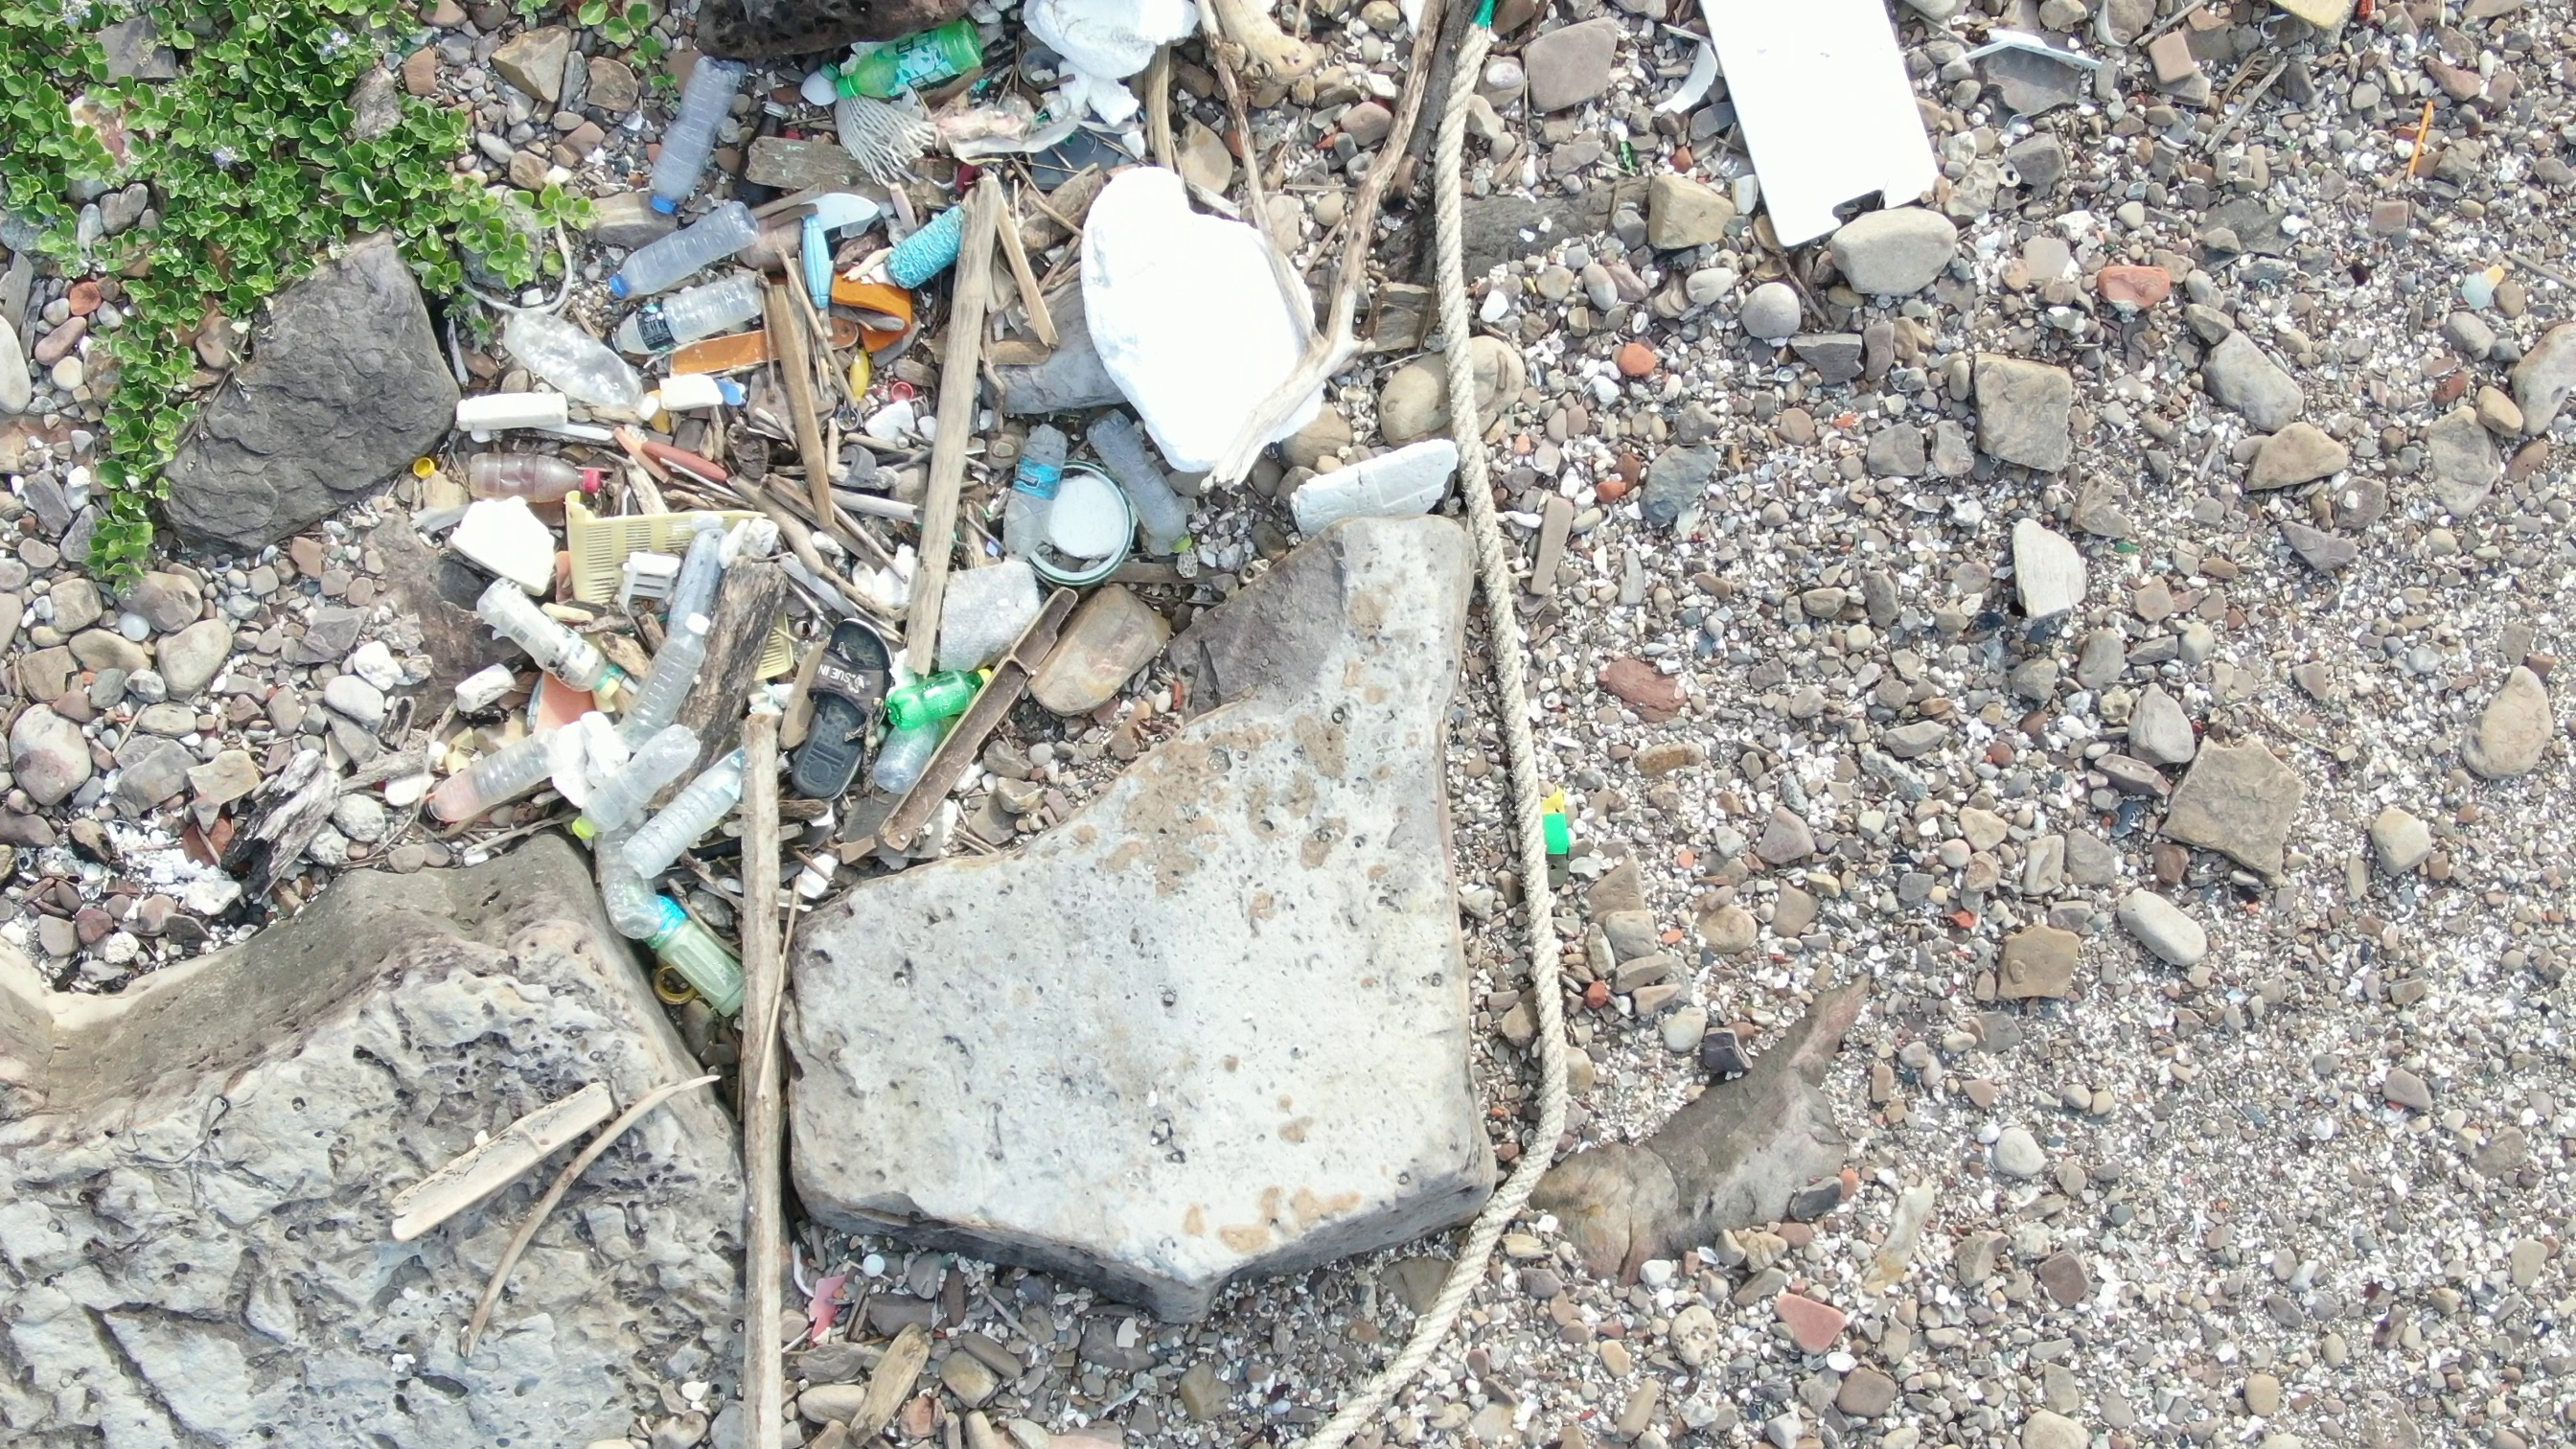bottle: (465, 570, 623, 718), (603, 177, 777, 301), (419, 715, 577, 840), (1083, 387, 1194, 556), (614, 734, 743, 872), (637, 57, 748, 216), (625, 890, 757, 1021), (602, 269, 789, 354), (821, 18, 987, 110), (985, 407, 1077, 561), (616, 607, 722, 738), (587, 724, 699, 826), (582, 807, 662, 950), (876, 663, 1005, 729), (462, 455, 609, 499)
garbage: (449, 2, 1373, 1044), (1292, 9, 1576, 1447), (1711, 2, 1941, 257)
